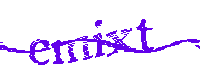c: (30, 40, 51, 66)
i: (93, 17, 106, 59)
m: (52, 35, 90, 65)
t: (136, 18, 156, 53)
x: (107, 28, 136, 56)
